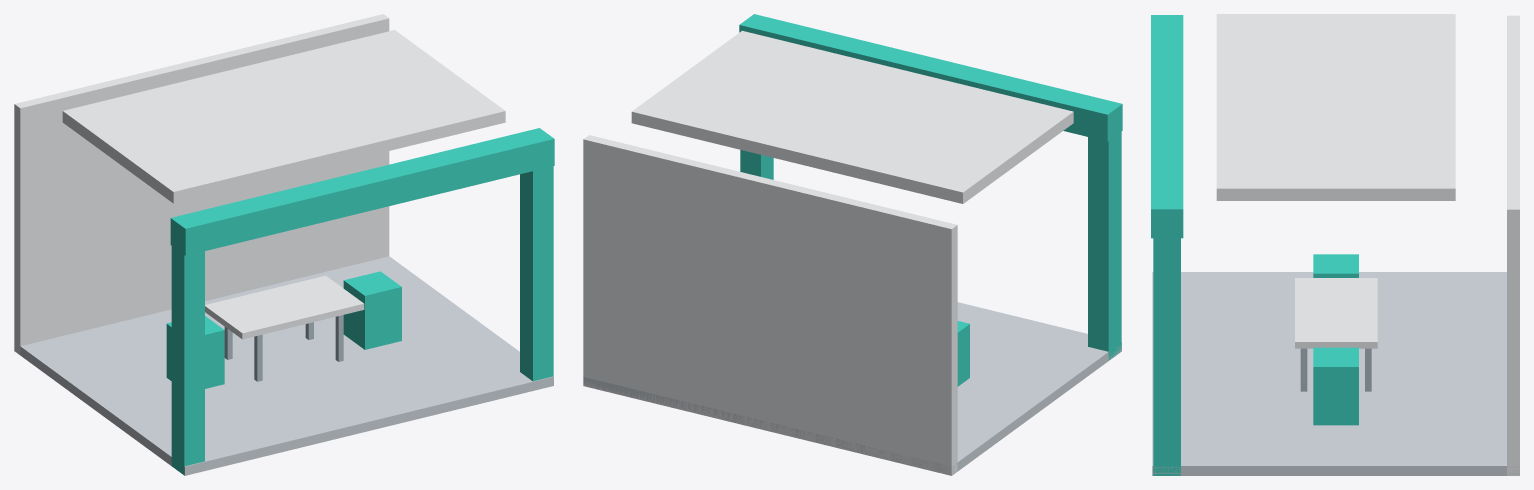
The picture shows the model from 3 angles, left to right: view 1: azimuth 30°, elevation 25°; view 2: azimuth 150°, elevation 25°; view 3: azimuth 270°, elevation 25°; orthographic projection. The views are drawn at different scales.
Parts seen in each view (by area): view 1: Exhibition Booth Concept; view 2: Exhibition Booth Concept; view 3: Exhibition Booth Concept.
Part boxes in pixels (box(x1,y1,x2,y2)): Exhibition Booth Concept: box(14, 14, 554, 475); Exhibition Booth Concept: box(583, 14, 1122, 475); Exhibition Booth Concept: box(1151, 14, 1519, 475).
Size of the model in its own units: 5 by 3.34 by 4.02.
